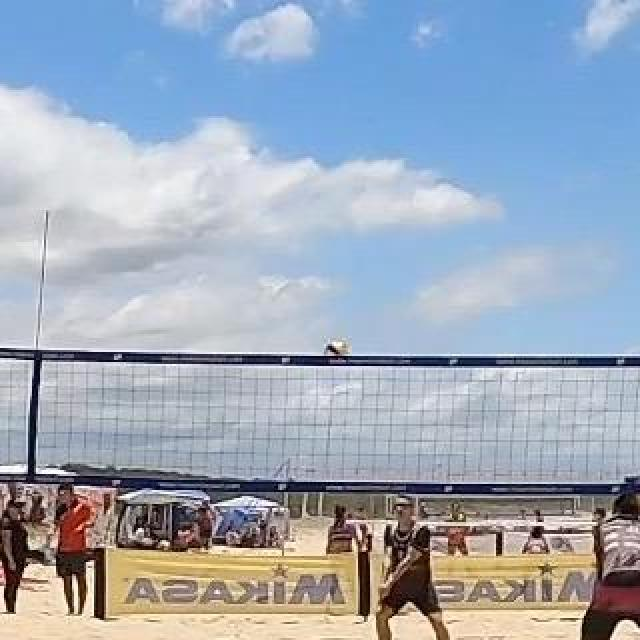volleyball: (326, 339, 352, 365)
